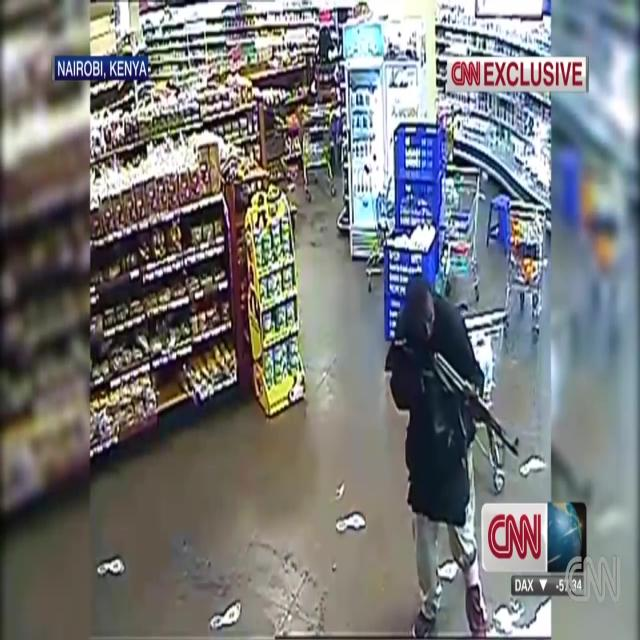Weapon: (379, 316, 528, 484)
